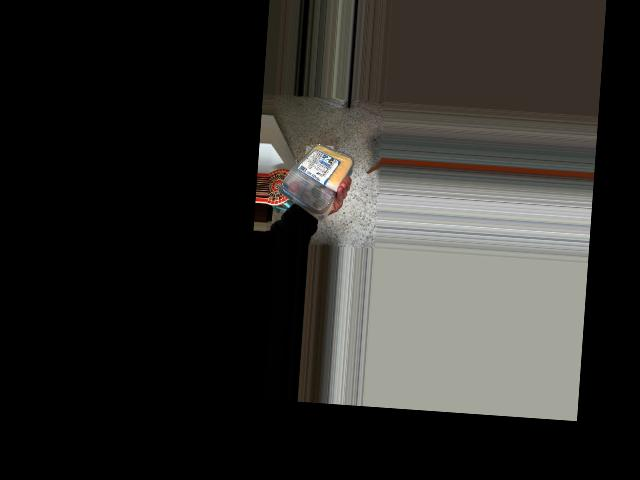cheese: (276, 134, 347, 213)
